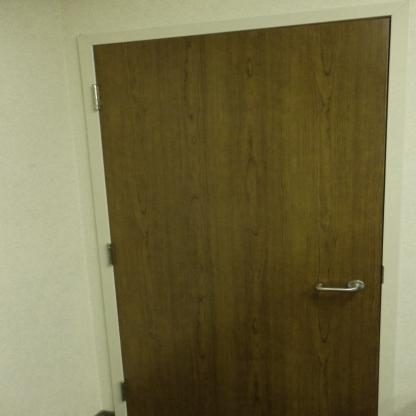door: (90, 43, 377, 415)
hinged: (89, 82, 103, 112), (118, 379, 132, 403), (106, 242, 119, 266)
lever: (312, 283, 364, 296)
